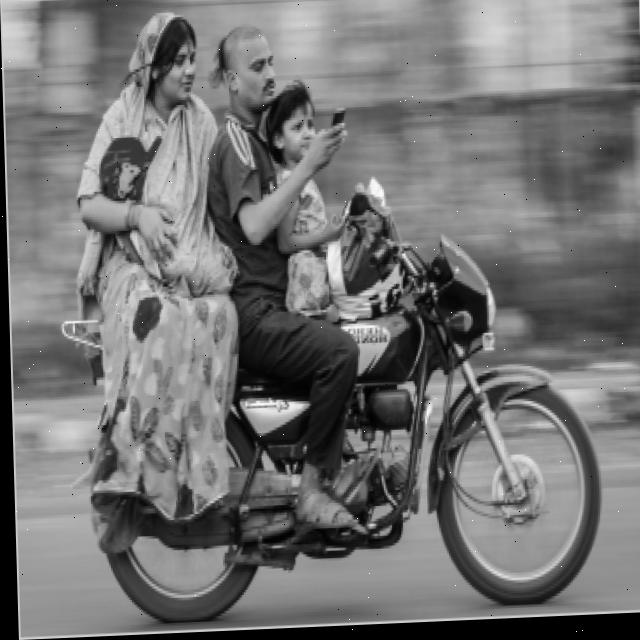without helmet: (117, 5, 271, 135)
